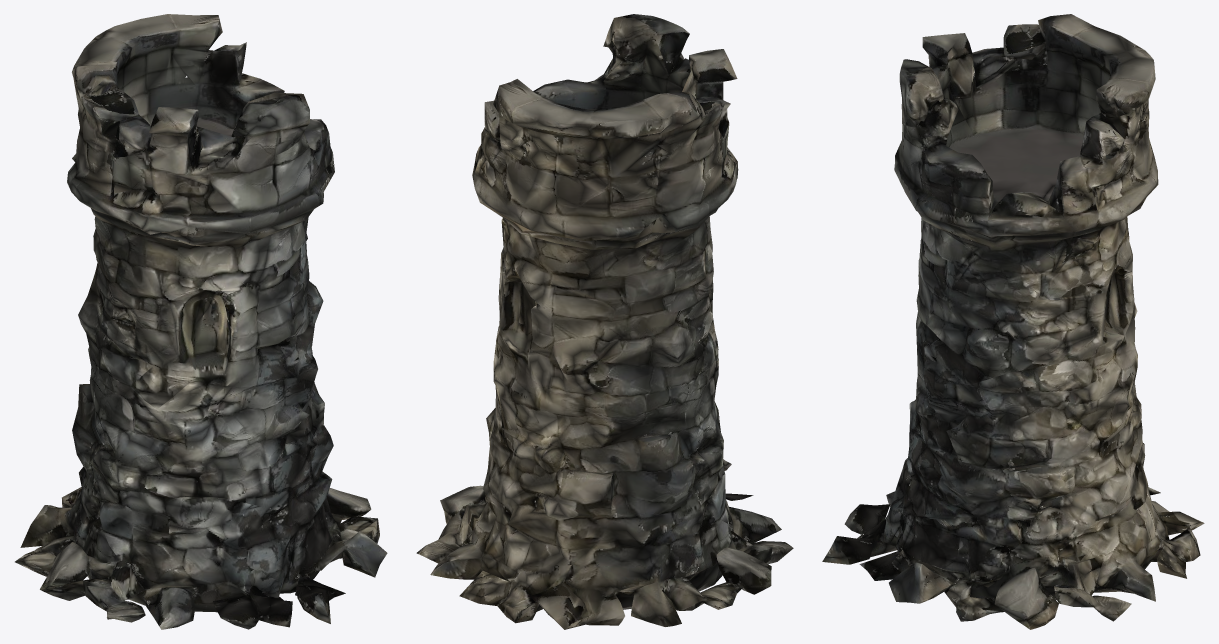
Rendered from tower_ruin_lod1.glb.
The picture shows the model from 3 angles, left to right: view 1: azimuth 30°, elevation 25°; view 2: azimuth 150°, elevation 25°; view 3: azimuth 270°, elevation 25°; orthographic projection.
Parts seen in each view (by area): view 1: tower_ruin_lod1; view 2: tower_ruin_lod1; view 3: tower_ruin_lod1.
Boxes of the visible parts, bbox=[...] form: tower_ruin_lod1: bbox=[15, 14, 387, 629]; tower_ruin_lod1: bbox=[416, 14, 793, 629]; tower_ruin_lod1: bbox=[822, 14, 1204, 629].
Bounding box in the file's own units: 15.91 × 23 × 16.19.
Materials: 1 (1 with a texture image).
